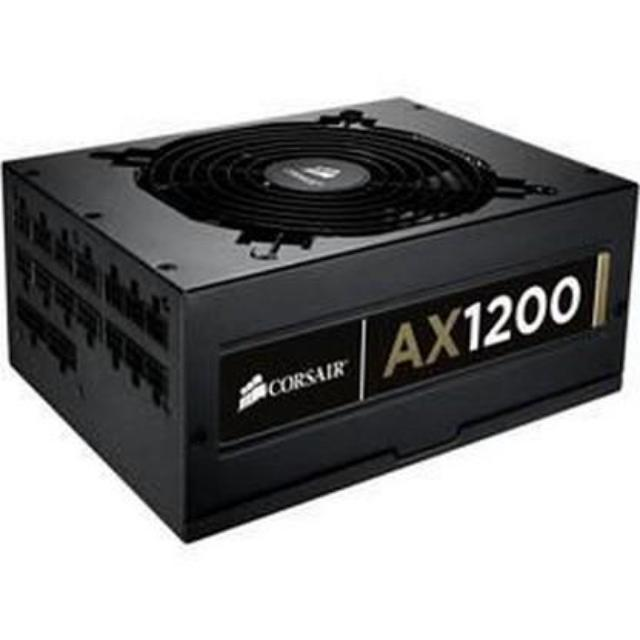PSU: (0, 88, 640, 560)
